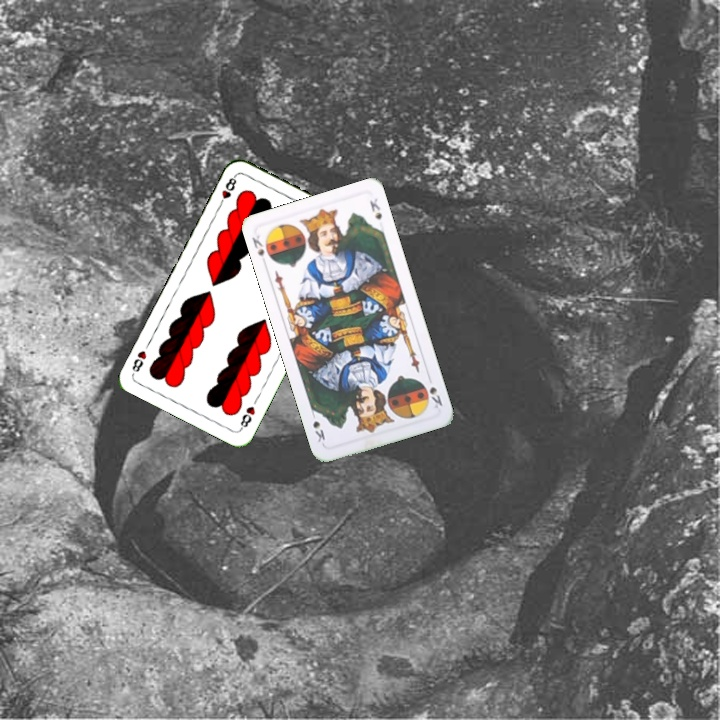H8: (215, 171, 239, 209), (236, 402, 258, 432)
SK: (420, 380, 445, 411), (248, 231, 267, 259)
